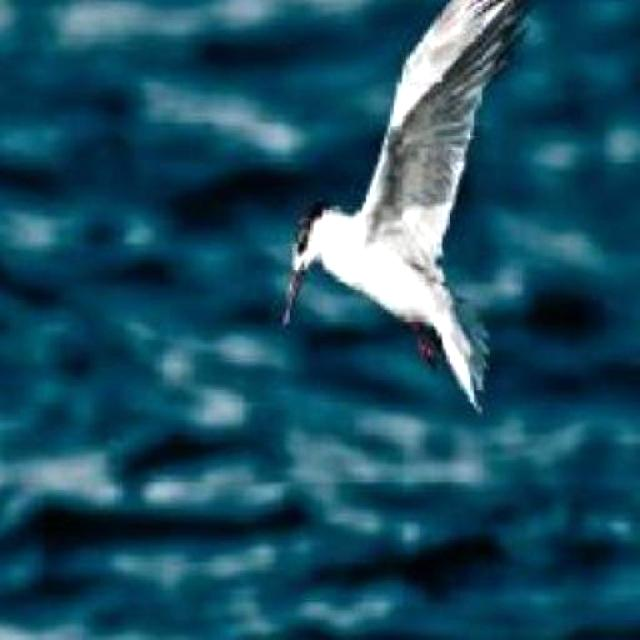airplane: (282, 0, 561, 414)
